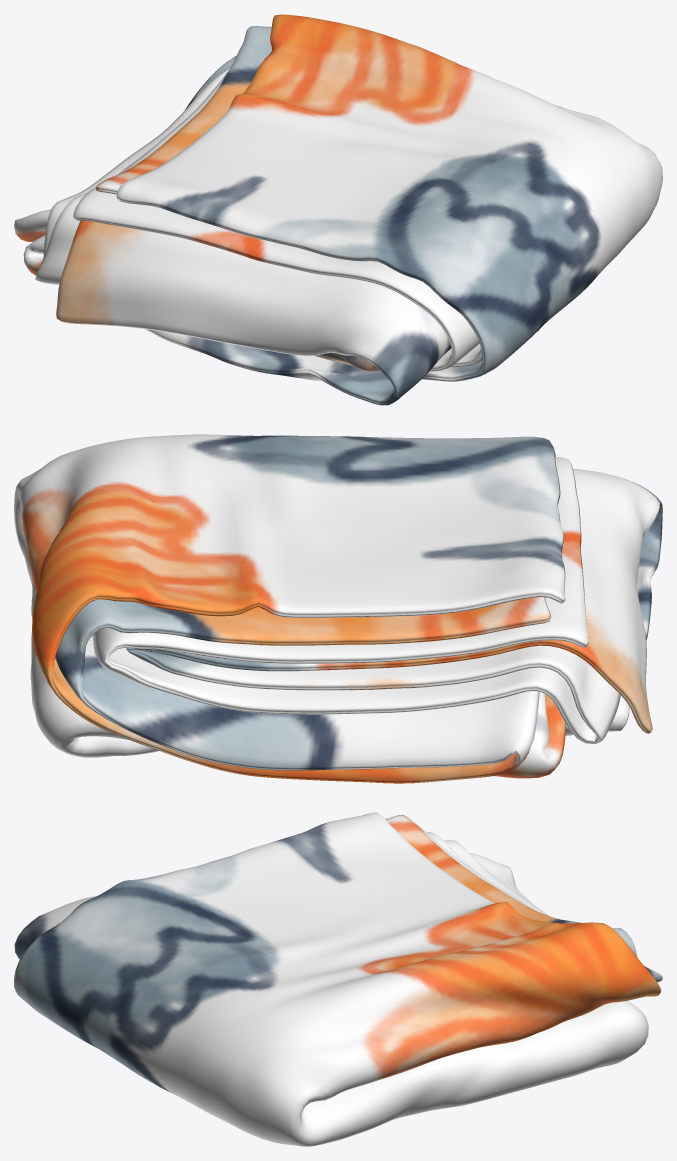
File: uploads_files_3892778_blanket04.fbx
3 renders of one model, top to bottom at view 1: azimuth 30°, elevation 25°; view 2: azimuth 150°, elevation 25°; view 3: azimuth 270°, elevation 25°, orthographic. The views are drawn at different scales.
Visible parts, largest first — view 1: blanket; view 2: blanket; view 3: blanket.
Part boxes in pixels (x1=…): blanket: x1=14, y1=14, x2=662, y2=405; blanket: x1=14, y1=434, x2=662, y2=783; blanket: x1=14, y1=812, x2=662, y2=1146.
Size of the model in its own units: 72.62 by 17.06 by 73.01.
